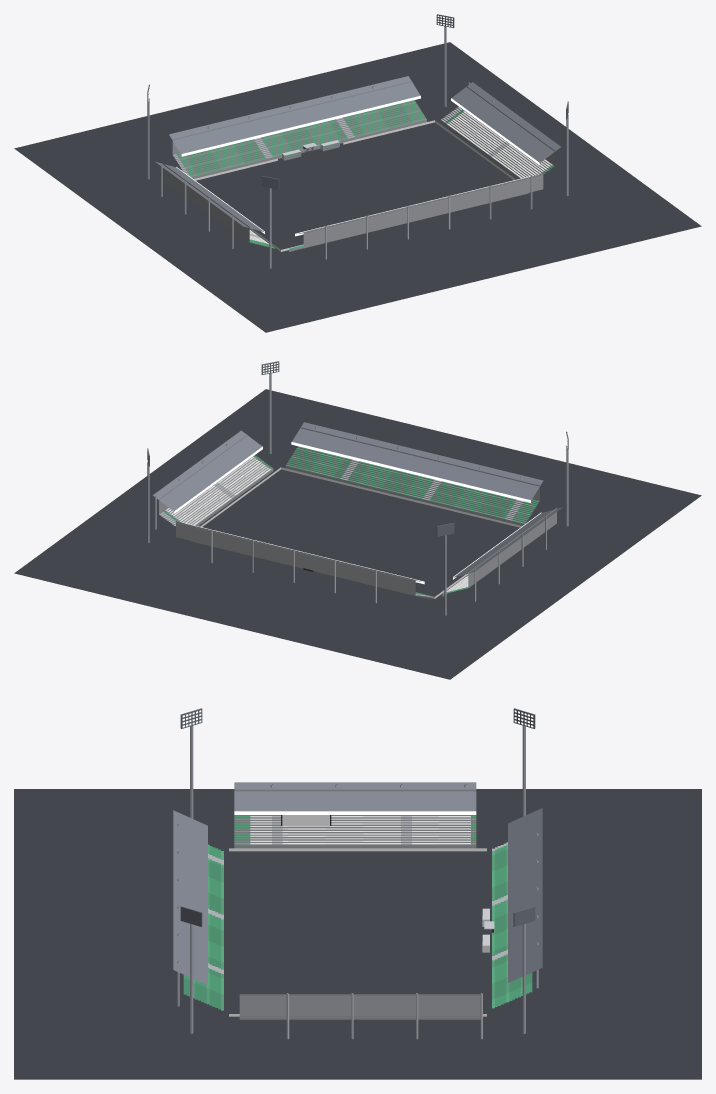
File: stadium_ground.glb
3 renders of one model, top to bottom at view 1: azimuth 30°, elevation 25°; view 2: azimuth 150°, elevation 25°; view 3: azimuth 270°, elevation 25°, orthographic. The views are drawn at different scales.
Visible parts, largest first — view 1: concourse, stand_concrete, roof, stand_seats, roof_fascia, floodlight_masts, roof_columns, ad_ring; view 2: concourse, stand_concrete, roof, stand_seats, roof_fascia, floodlight_masts, ad_ring, roof_columns; view 3: concourse, roof, stand_concrete, stand_seats, floodlight_masts, ad_ring, roof_fascia, roof_columns, screens.
Boxes of the visible parts, x1,y1,x2,y2 form: concourse: (14,42,701,332); stand_concrete: (161,81,554,251); roof: (155,76,560,234); stand_seats: (173,100,554,248); roof_fascia: (176,95,539,236); floodlight_masts: (147,14,568,268); roof_columns: (161,82,541,259); ad_ring: (193,120,515,251); concourse: (14,389,701,679); stand_concrete: (159,427,556,599); roof: (153,422,562,581); stand_seats: (159,446,539,596); roof_fascia: (174,442,541,584); floodlight_masts: (147,361,568,615); ad_ring: (200,467,522,598); roof_columns: (155,426,546,603); concourse: (14,789,701,1079); roof: (173,782,542,995); stand_concrete: (234,789,480,1019); stand_seats: (183,816,532,1010); floodlight_masts: (180,708,535,1033); ad_ring: (229,848,486,1016); roof_fascia: (234,811,476,814); roof_columns: (177,784,538,1039); screens: (282,815,329,826).
Bounding box in the file's own units: 203 × 40.26 × 203.
